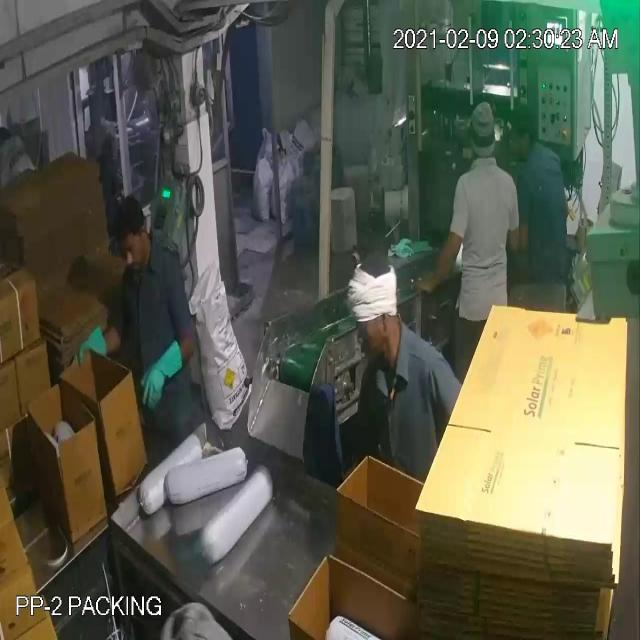gloves: (137, 332, 191, 413), (66, 322, 114, 376)
no-gloves: (416, 210, 460, 298)
